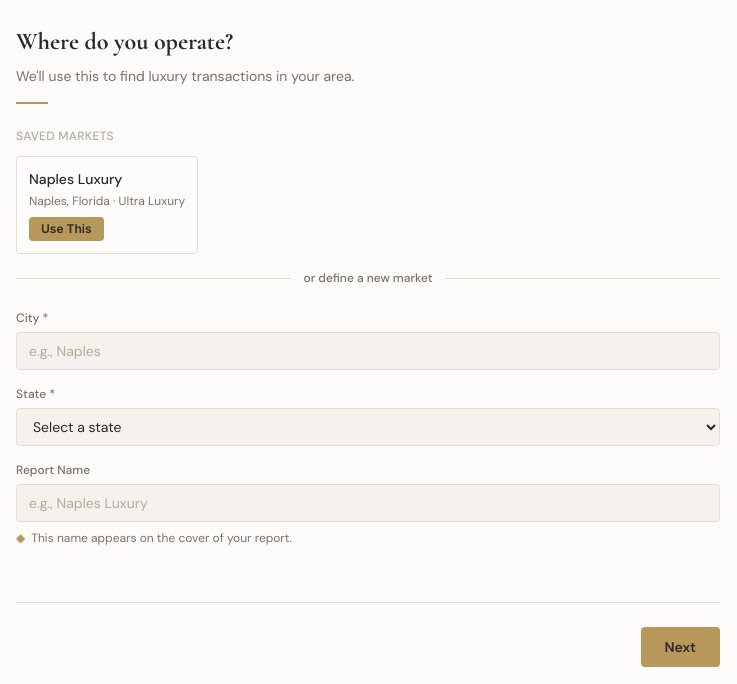
Test: Unified Creation Flow Shell (#151) › CreationFlowShell › advances to step 2 when Next is clicked
(page scrolled)
Click the button "Next". click: (680, 647)
box: top-left (640, 627), bottom-right (720, 667)
(page scrolled)
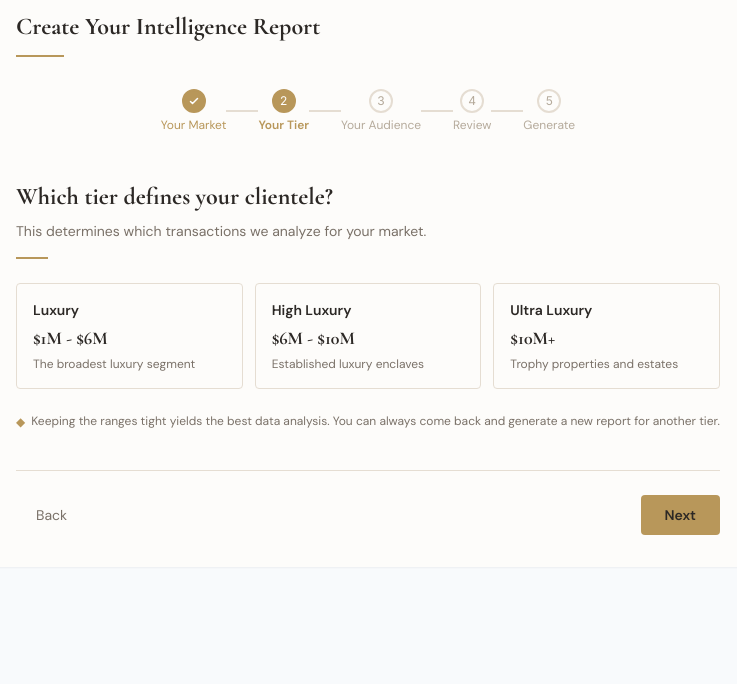
Result: the element with test id "step-content-1" is shown at top-left (16, 165), bottom-right (720, 446)
